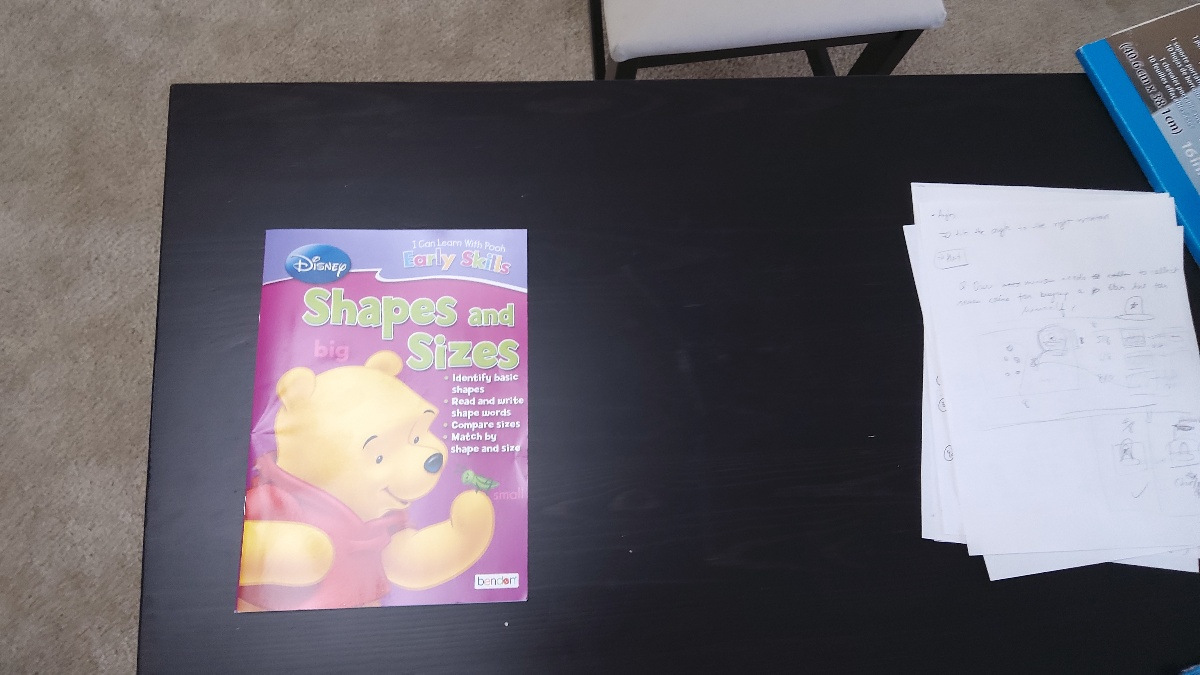book: (231, 226, 534, 621)
